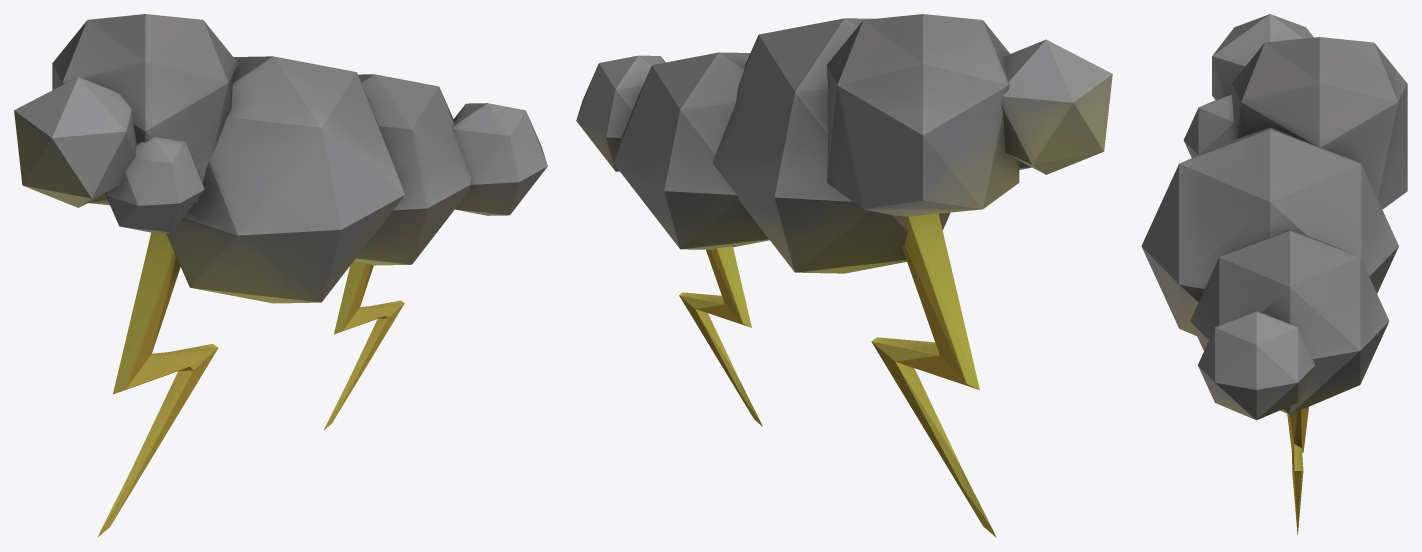
Rendered from Cloud_1.fbx.
The picture shows the model from 3 angles, left to right: view 1: azimuth 30°, elevation 25°; view 2: azimuth 150°, elevation 25°; view 3: azimuth 270°, elevation 25°; orthographic projection. The views are drawn at different scales.
Visible parts, largest first — view 1: Cloud_1; view 2: Cloud_1; view 3: Cloud_1.
Part boxes in pixels (x1,y1,x2,y2): Cloud_1: [14, 14, 547, 537]; Cloud_1: [576, 14, 1112, 537]; Cloud_1: [1141, 14, 1407, 534].
Size of the model in its own units: 85.05 by 40.52 by 79.51.
Materials: 1 (1 with a texture image).
